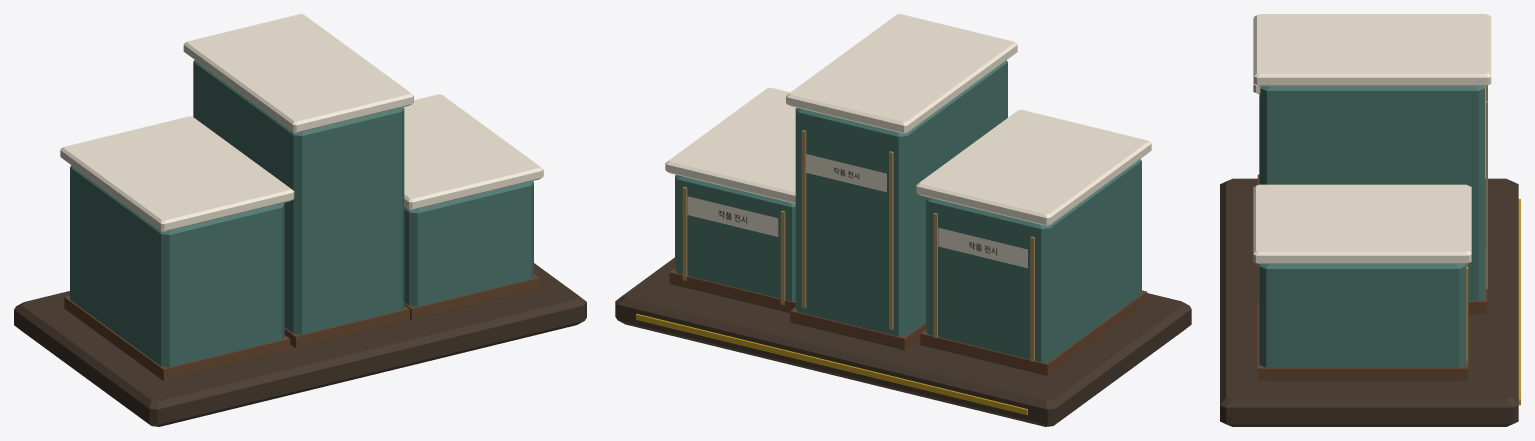
The model's file is A08_Modular_Display_Island.fbx.
3 views of the same model, side by side, from view 1: azimuth 30°, elevation 25°; view 2: azimuth 150°, elevation 25°; view 3: azimuth 270°, elevation 25° (orthographic). The views are drawn at different scales.
Visible parts, largest first — view 1: Plinth_01, Plinth_02, Base, Plinth_03; view 2: Plinth_02, Plinth_01, Base, Plinth_03, Caption_03, Caption_01, Caption_02; view 3: Plinth_03, Plinth_02, Base, Plinth_01.
Boxes of the visible parts, x1,y1,x2,y2 form: Plinth_01: (60,116,294,380); Plinth_02: (183,14,413,348); Base: (14,263,586,426); Plinth_03: (403,94,543,320); Plinth_02: (786,14,1017,350); Plinth_01: (916,109,1151,375); Base: (615,257,1191,426); Plinth_03: (665,87,796,313); Caption_03: (687,196,778,236); Caption_01: (938,227,1027,268); Caption_02: (806,154,886,192); Plinth_03: (1253,184,1471,381); Plinth_02: (1254,14,1491,314); Base: (1220,178,1520,426); Plinth_01: (1253,18,1260,184).
Bounding box in the file's own units: 3.2 × 1.8 × 1.8.
7 materials, 1 textured.
